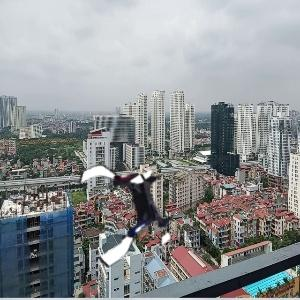drone: (70, 152, 182, 264)
